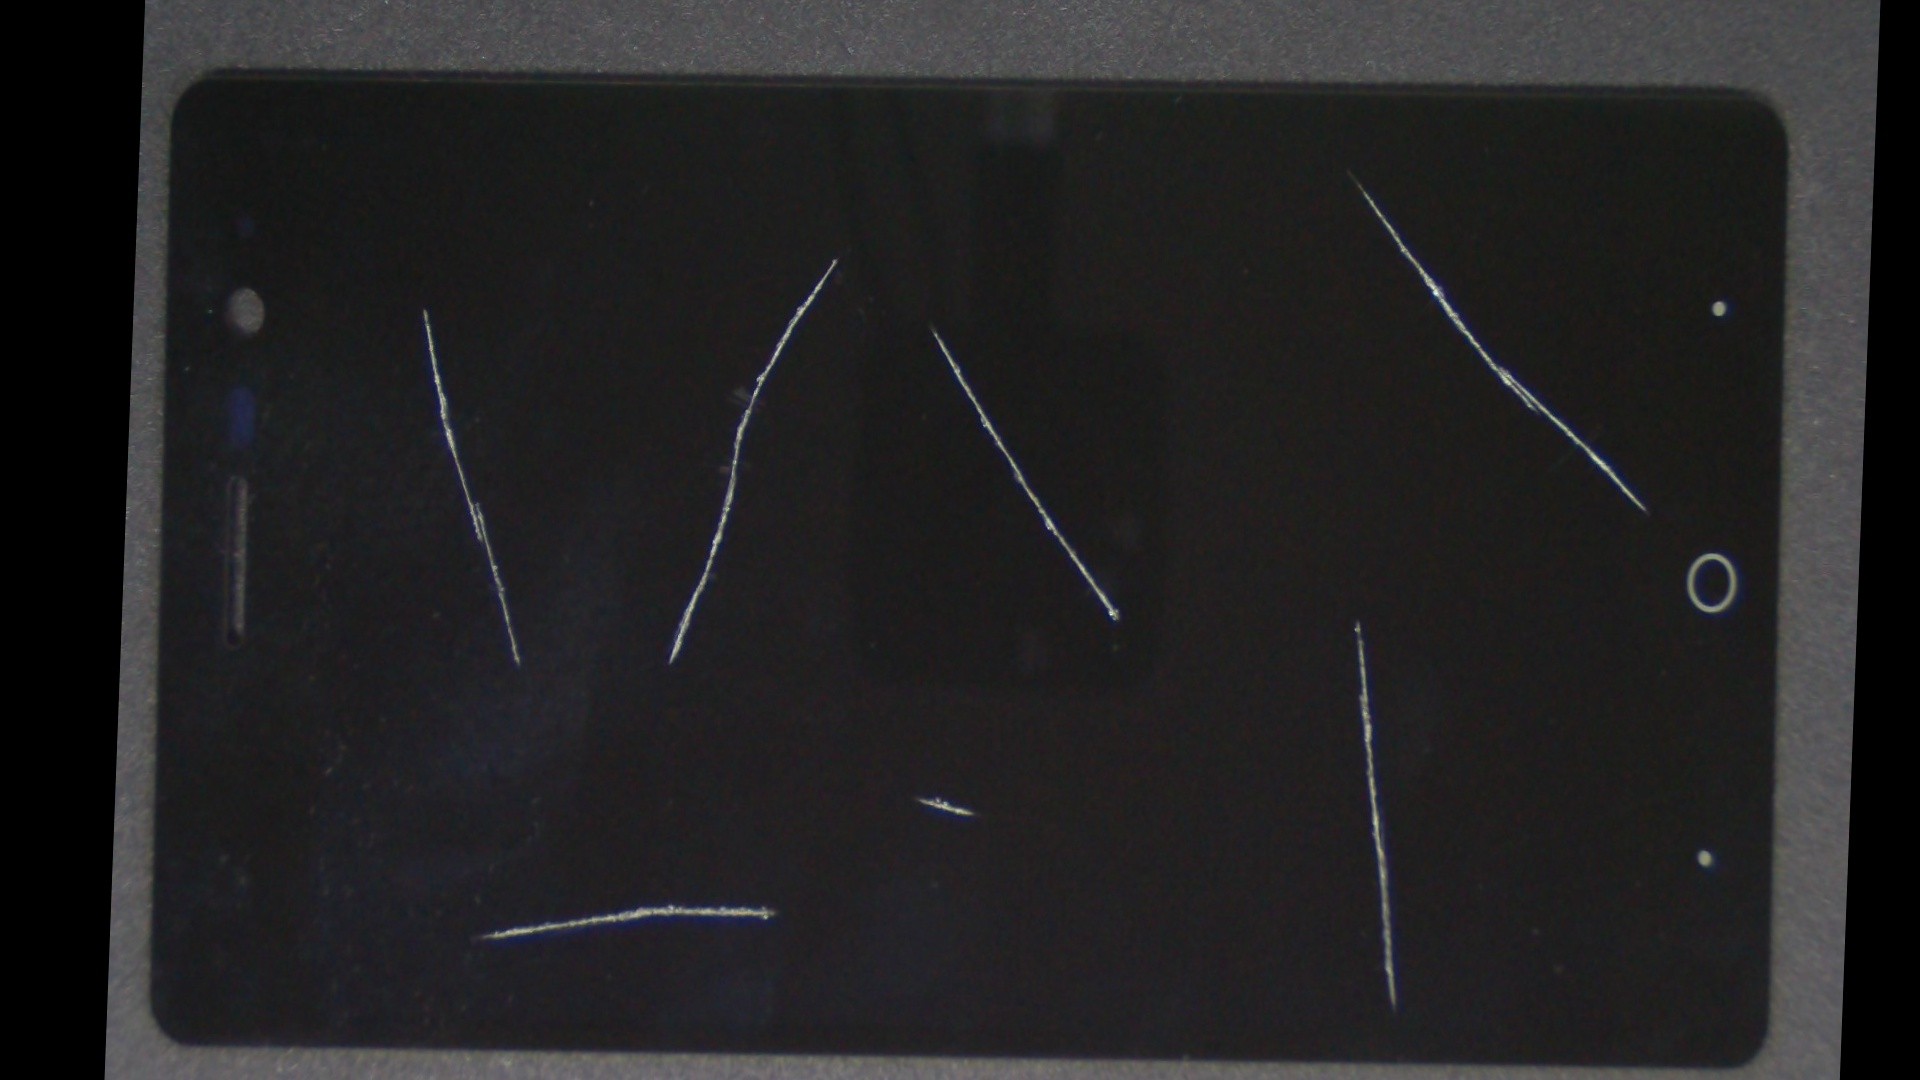oil: (728, 264, 1869, 969), (498, 352, 1323, 1080), (430, 405, 1104, 1080), (526, 119, 1338, 537), (742, 44, 1878, 307), (480, 83, 1187, 430), (273, 108, 578, 508)
